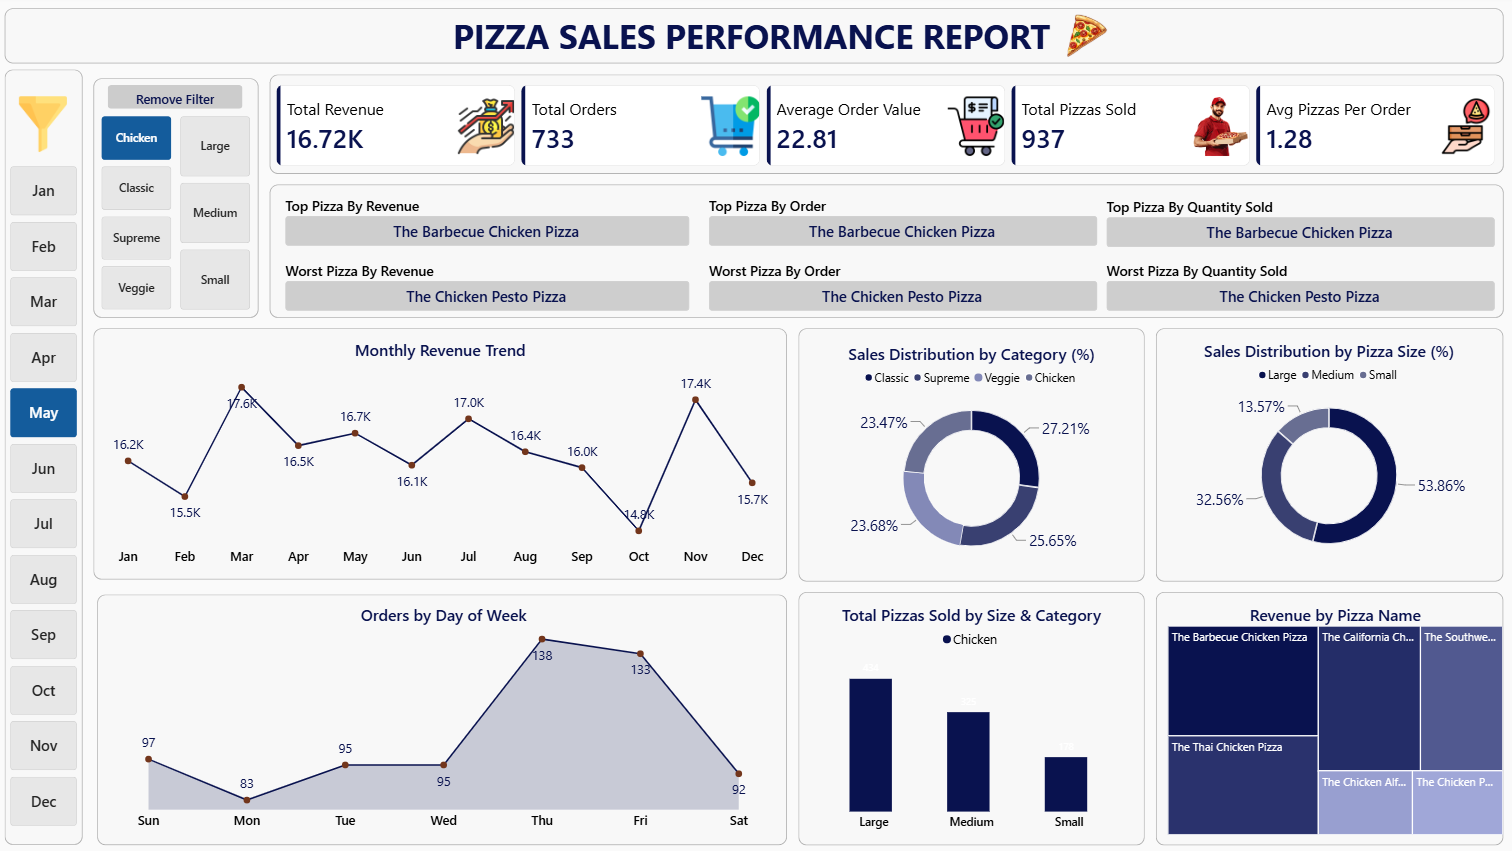

The page's visual inventory and layout, read from the dashboard file:
{"tool":"powerbi","page":{"name":"DASHBOARD","canvas":[1920,1080],"ordinal":0},"visuals":[{"type":"shape","box":[12.9,10,1892.9,71.4],"z":0,"group":"g1"},{"type":"group","id":"g1","title":"Group 1","box":[12.9,10,1892.9,1058.6],"z":0},{"type":"advancedSlicerVisual","title":"Top Pizza By Revenue","fields":{"Values":["PIZZA SALES.pizza_name"]},"box":[368.6,247.6,510,62.9],"z":0,"group":"g2"},{"type":"shape","box":[13.2,88,100,980],"z":1000,"group":"g1"},{"type":"cardVisual","fields":{"Data":["PIZZA SALES.Total Revenue","PIZZA SALES.Total Orders","PIZZA SALES.Average Order Value","PIZZA SALES.Total Pizzas Sold","PIZZA SALES.Avg Pizzas Per Order"]},"box":[357.1,107.1,1537.1,102.9],"z":1000},{"type":"advancedSlicerVisual","title":"Worst Pizza By Revenue","fields":{"Values":["PIZZA SALES.pizza_name"]},"box":[368.6,329,510,62.9],"z":1000,"group":"g2"},{"type":"shape","box":[125.2,98,210,304],"z":2000,"group":"g1"},{"type":"lineChart","title":"Monthly Revenue Trend","fields":{"Category":["PIZZA SALES.Month Name"],"Y":["PIZZA SALES.Total Revenue"]},"box":[125.6,413.3,876.7,322.2],"z":2000},{"type":"shape","box":[124.2,413.3,876.7,318.9],"z":3000,"group":"g1"},{"type":"lineChart","title":"Orders by Day of Week","fields":{"Category":["PIZZA SALES.Day Name"],"Y":["PIZZA SALES.Total Orders"]},"box":[130,748,876,320],"z":3000},{"type":"donutChart","title":"Sales Distribution by Category (%)","fields":{"Category":["PIZZA SALES.pizza_category"],"Y":["PIZZA SALES.Total Revenue"]},"box":[1014.3,418.6,438.6,314.3],"z":4000},{"type":"shape","box":[129.2,750,872,318],"z":4000,"group":"g1"},{"type":"shape","box":[1014.3,414.3,438.6,321.4],"z":5000,"group":"g1"},{"type":"donutChart","title":"Sales Distribution by Pizza Size (%)","fields":{"Category":["PIZZA SALES.pizza_size"],"Y":["PIZZA SALES.Total Revenue"]},"box":[1465.7,414.3,438.6,314.3],"z":5000},{"type":"shape","box":[1465.8,414.3,440,321.4],"z":6000,"group":"g1"},{"type":"columnChart","title":"Total Pizzas Sold by Size & Category","fields":{"Category":["PIZZA SALES.pizza_size"],"Series":["PIZZA SALES.pizza_category"],"Y":["PIZZA SALES.Total Pizzas Sold"]},"box":[1014.3,747.1,438.6,321.4],"z":6000},{"type":"shape","box":[347.2,92.9,1558.6,127.1],"z":7000,"group":"g1"},{"type":"treemap","title":"Revenue by Pizza Name","fields":{"Group":["PIZZA SALES.pizza_name"],"Values":["PIZZA SALES.Total Revenue"]},"box":[1465.7,747.1,454.3,321.4],"z":7000},{"type":"shape","box":[347.2,232.9,1558.6,170],"z":8000,"group":"g1"},{"type":"advancedSlicerVisual","title":"Top Pizza By Order","fields":{"Values":["PIZZA SALES.pizza_name"]},"box":[902.9,247.8,490,62.9],"z":8000},{"type":"advancedSlicerVisual","title":"Worst Pizza By Order","fields":{"Values":["PIZZA SALES.pizza_name"]},"box":[902.9,329.2,490,62.9],"z":9000},{"type":"shape","box":[1014.3,747.1,438.6,321.4],"z":9000,"group":"g1"},{"type":"group","id":"g2","title":"Group 3","box":[368.6,247.6,510,144.3],"z":10000},{"type":"shape","box":[1465.8,747.1,440,321.4],"z":10000,"group":"g1"},{"type":"advancedSlicerVisual","title":"Top Pizza By Quantity Sold","fields":{"Values":["PIZZA SALES.pizza_name"]},"box":[1404.3,249,490,62.9],"z":11000},{"type":"advancedSlicerVisual","title":"Worst Pizza By Quantity Sold","fields":{"Values":["PIZZA SALES.pizza_name"]},"box":[1404.3,330.4,490,62.9],"z":12000},{"type":"advancedSlicerVisual","fields":{"Values":["PIZZA SALES.Month Name"]},"box":[21,210,84,842],"z":13000},{"type":"advancedSlicerVisual","fields":{"Values":["PIZZA SALES.pizza_category"]},"box":[136.5,147.5,88.5,246],"z":14000},{"type":"advancedSlicerVisual","fields":{"Values":["PIZZA SALES.pizza_size"]},"box":[235.5,147.5,88.5,246],"z":15000},{"type":"actionButton","box":[144.3,107.1,170,30],"z":15001},{"type":"image","box":[17.1,121.4,88.6,70],"z":15002},{"type":"textbox","box":[10,8,1892.9,71.4],"z":15003},{"type":"image","box":[1327.1,14.3,101.4,62.9],"z":15004},{"type":"textbox","box":[105.7,21.4,184.3,47.1],"z":15006}]}

Visuals, with their boxes in screenshot pixels (x1, y1, x2, y2), scaled from the page's 1920x1080 canvas onto the 1512x851 screenshot:
shape: 10 8 1501 64
"Group 1" group: 10 8 1501 842
"Top Pizza By Revenue" advancedSlicerVisual: 290 195 692 245
shape: 10 69 89 842
cardVisual - PIZZA SALES.Total Revenue x PIZZA SALES.Total Orders: 281 84 1492 165
"Worst Pizza By Revenue" advancedSlicerVisual: 290 259 692 309
shape: 99 77 264 317
"Monthly Revenue Trend" lineChart: 99 326 789 580
shape: 98 326 788 577
"Orders by Day of Week" lineChart: 102 589 792 842
"Sales Distribution by Category (%)" donutChart: 799 330 1144 577
shape: 102 591 788 842
shape: 799 326 1144 580
"Sales Distribution by Pizza Size (%)" donutChart: 1154 326 1500 574
shape: 1154 326 1501 580
"Total Pizzas Sold by Size & Category" columnChart: 799 589 1144 842
shape: 273 73 1501 173
"Revenue by Pizza Name" treemap: 1154 589 1511 842
shape: 273 184 1501 317
"Top Pizza By Order" advancedSlicerVisual: 711 195 1097 245
"Worst Pizza By Order" advancedSlicerVisual: 711 259 1097 309
shape: 799 589 1144 842
"Group 3" group: 290 195 692 309
shape: 1154 589 1501 842
"Top Pizza By Quantity Sold" advancedSlicerVisual: 1106 196 1492 246
"Worst Pizza By Quantity Sold" advancedSlicerVisual: 1106 260 1492 310
advancedSlicerVisual - PIZZA SALES.Month Name: 17 165 83 829
advancedSlicerVisual - PIZZA SALES.pizza_category: 107 116 177 310
advancedSlicerVisual - PIZZA SALES.pizza_size: 185 116 255 310
actionButton: 114 84 248 108
image: 13 96 83 151
textbox: 8 6 1499 63
image: 1045 11 1125 61
textbox: 83 17 228 54
